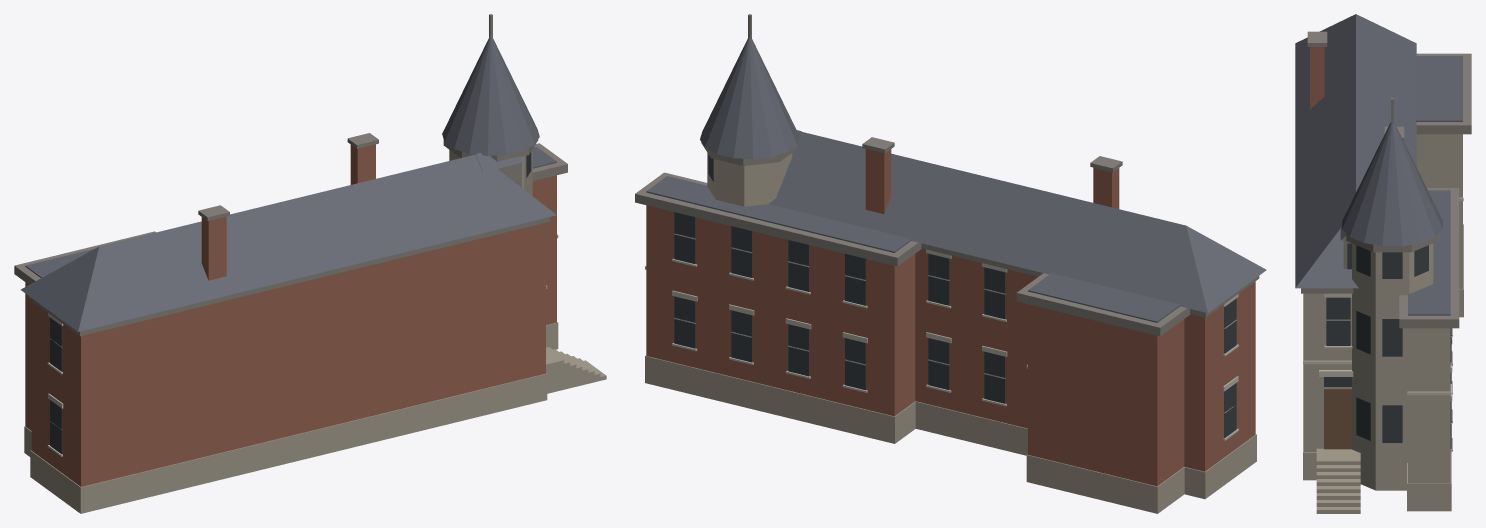
Rendered from house_2011_prairie__draft_1904.glb.
The picture shows the model from 3 angles, left to right: view 1: azimuth 30°, elevation 25°; view 2: azimuth 150°, elevation 25°; view 3: azimuth 270°, elevation 25°; orthographic projection. The views are drawn at different scales.
Parts seen in each view (by area): view 1: house_2011_prairie__draft_1904; view 2: house_2011_prairie__draft_1904; view 3: house_2011_prairie__draft_1904.
Part boxes in pixels (left/top/right/bottom): house_2011_prairie__draft_1904: left=14, top=14, right=606, bottom=513; house_2011_prairie__draft_1904: left=635, top=14, right=1266, bottom=513; house_2011_prairie__draft_1904: left=1295, top=14, right=1471, bottom=513.
Size of the model in its own units: 26.7 by 16.9 by 7.2.
